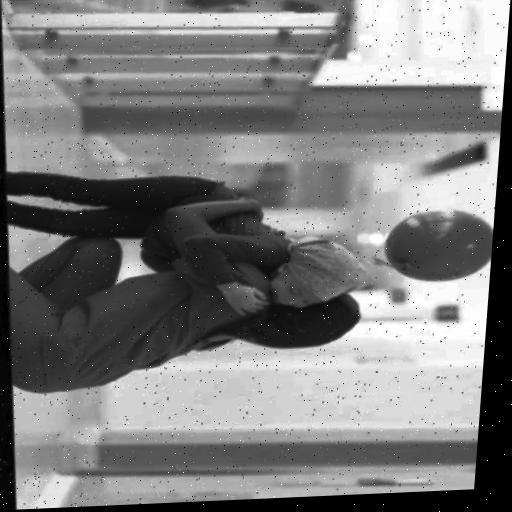balloon: (368, 202, 495, 289)
